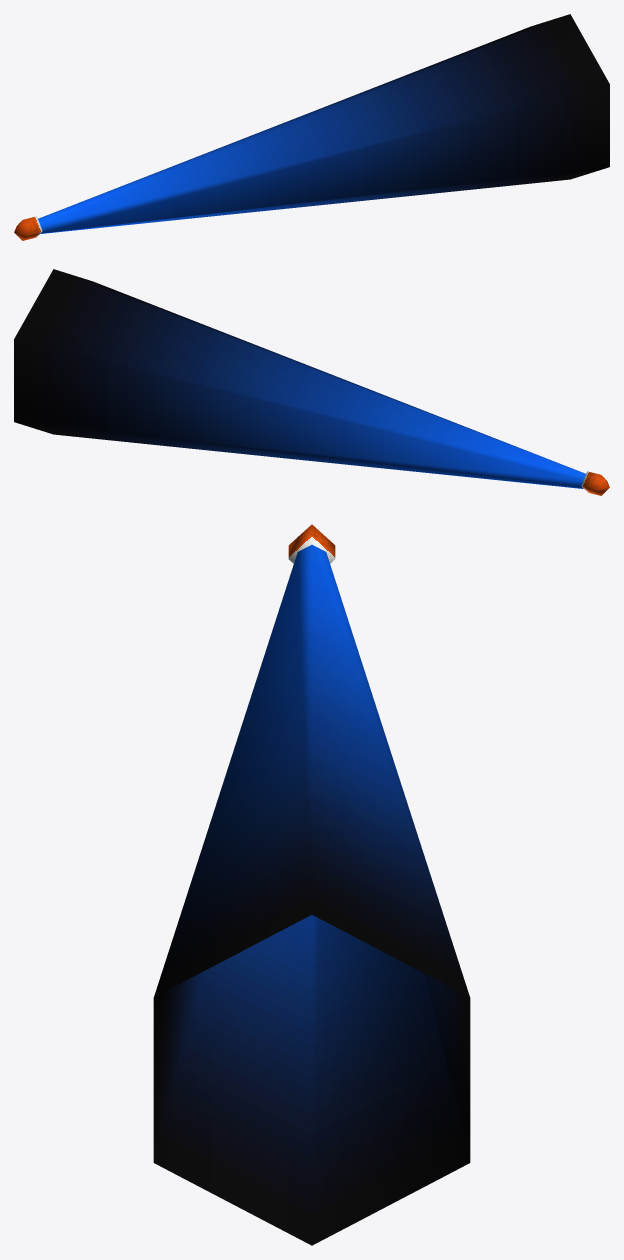
The model's file is Spotlight.obj.
The picture shows the model from 3 angles, top to bottom: view 1: azimuth 30°, elevation 25°; view 2: azimuth 150°, elevation 25°; view 3: azimuth 270°, elevation 25°; orthographic projection. The views are drawn at different scales.
Size of the model in its own units: 635 by 180 by 156.
Materials: 2 (2 with a texture image).
